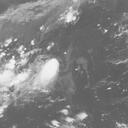cyclone: (36, 59, 60, 85)
